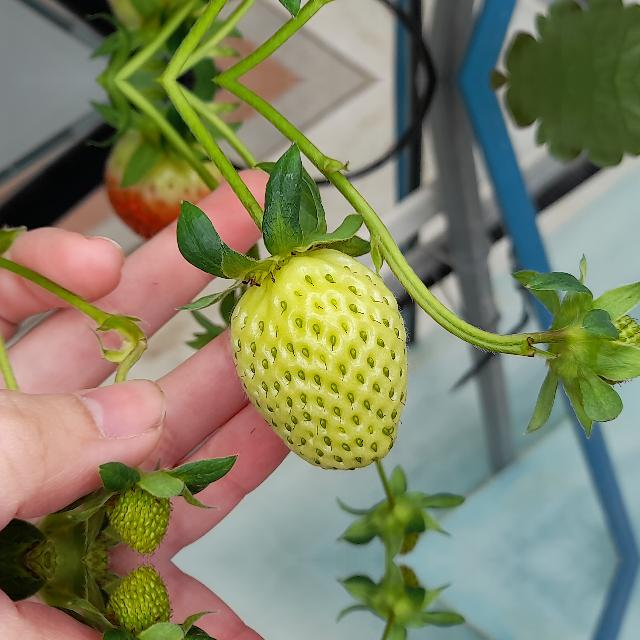Health_25: (230, 248, 408, 470), (104, 484, 174, 560), (104, 560, 174, 636)
